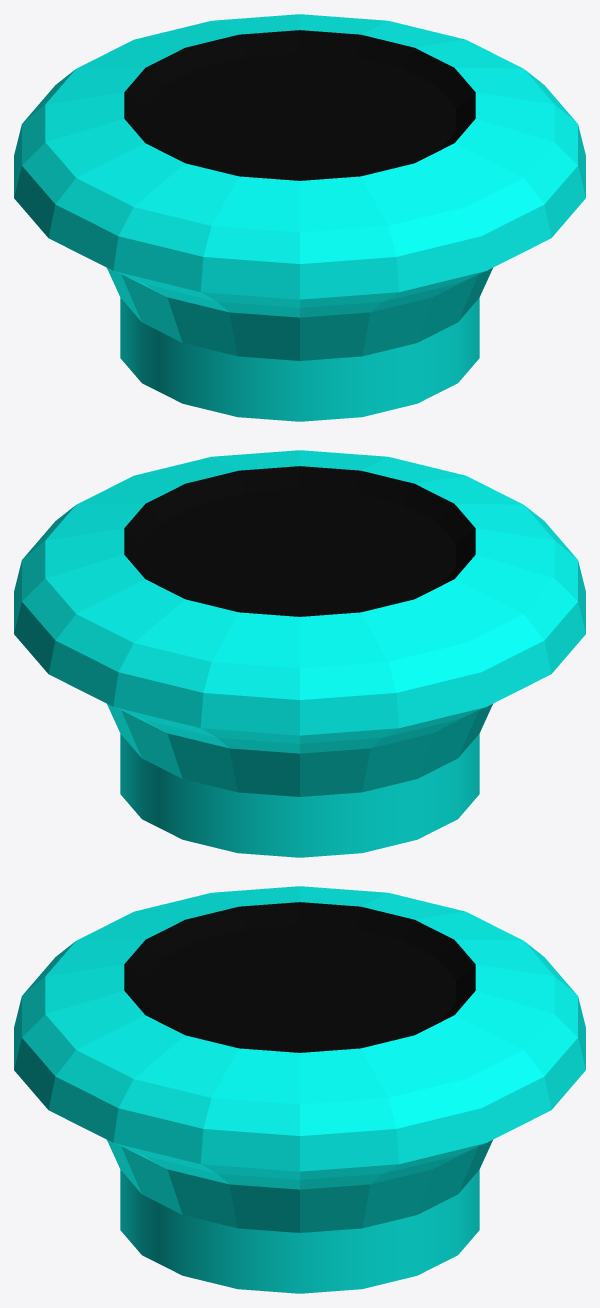
File: mesh_light.FBX
3 renders of one model, top to bottom at view 1: azimuth 30°, elevation 25°; view 2: azimuth 150°, elevation 25°; view 3: azimuth 270°, elevation 25°, orthographic.
Visible parts, largest first — view 1: Cylinder001; view 2: Cylinder001; view 3: Cylinder001.
Boxes of the visible parts, box(x1,y1,x2,y2) form: Cylinder001: box(14, 14, 585, 421); Cylinder001: box(14, 450, 585, 857); Cylinder001: box(14, 886, 585, 1293).
Size of the model in its own units: 15.91 by 7.66 by 15.67.
